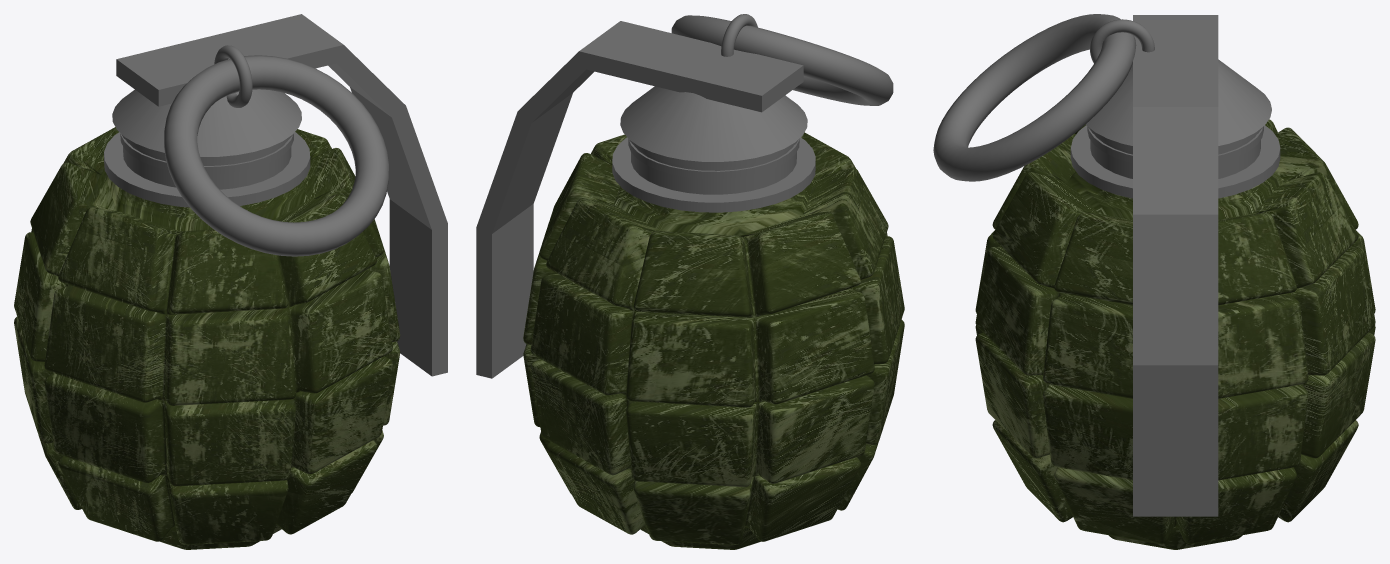
Rendered from granada.glb.
The picture shows the model from 3 angles, left to right: view 1: azimuth 30°, elevation 25°; view 2: azimuth 150°, elevation 25°; view 3: azimuth 270°, elevation 25°; orthographic projection. The views are drawn at different scales.
Parts seen in each view (by area): view 1: Sphere, Plane, Torus.002, Circle, Torus; view 2: Sphere, Plane, Circle, Torus.002, Torus; view 3: Sphere, Plane, Torus.002, Circle, Torus.
Boxes of the visible parts, left/top/right/bottom form: Sphere: left=14, top=127, right=400, bottom=549; Plane: left=116, top=14, right=447, bottom=376; Torus.002: left=164, top=55, right=388, bottom=256; Circle: left=104, top=89, right=310, bottom=207; Torus: left=214, top=45, right=252, bottom=107; Sphere: left=523, top=132, right=904, bottom=549; Plane: left=476, top=21, right=803, bottom=378; Circle: left=612, top=86, right=815, bottom=212; Torus.002: left=671, top=15, right=893, bottom=105; Torus: left=721, top=14, right=757, bottom=56; Sphere: left=975, top=119, right=1375, bottom=549; Plane: left=1133, top=15, right=1218, bottom=516; Torus.002: left=933, top=14, right=1136, bottom=181; Circle: left=1070, top=59, right=1280, bottom=198; Torus: left=1090, top=19, right=1154, bottom=63.
Bounding box in the file's own units: 2.5 × 2.99 × 2.42.
2 materials, 1 textured.
